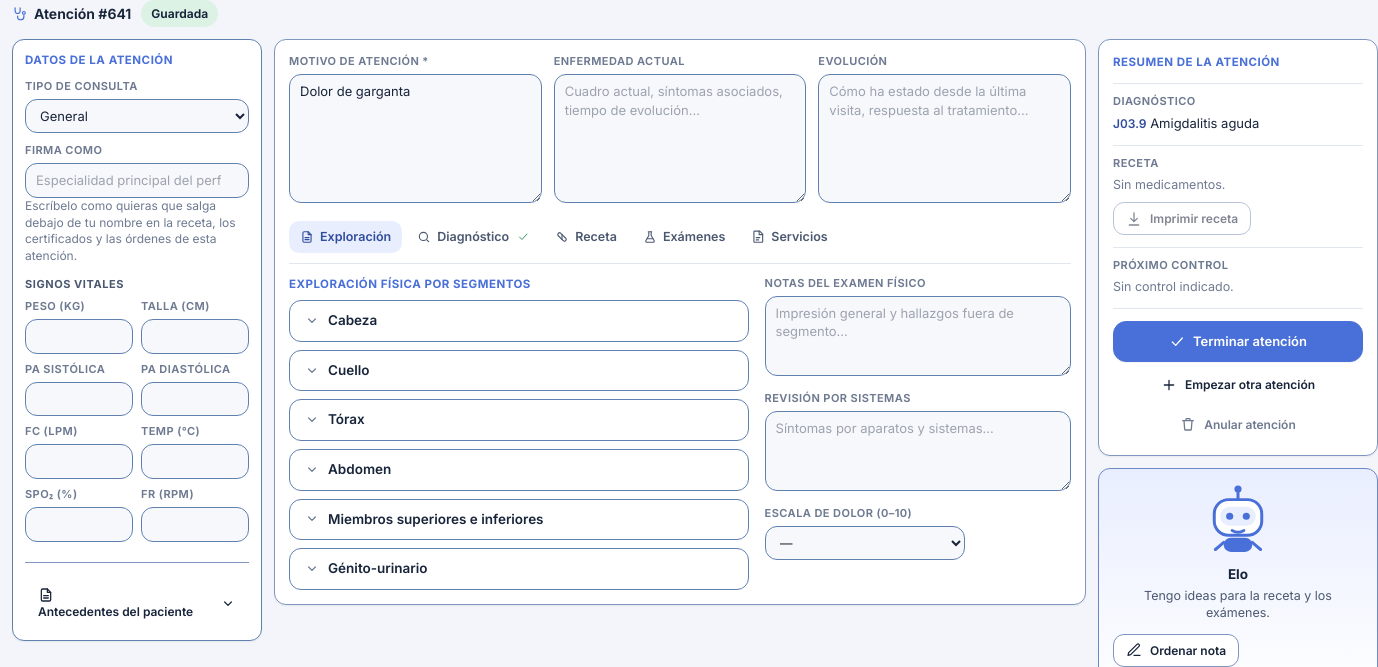
Test: EncounterSection — Elo › suggests CIE-10 in the diagnosis search only when asked, and a chip adds it
Expected: the text "Atención #641" is shown, [12,4,131,24]
Click the tab "Diagnóstico".
click(473, 237)  # box [406,221,540,253]
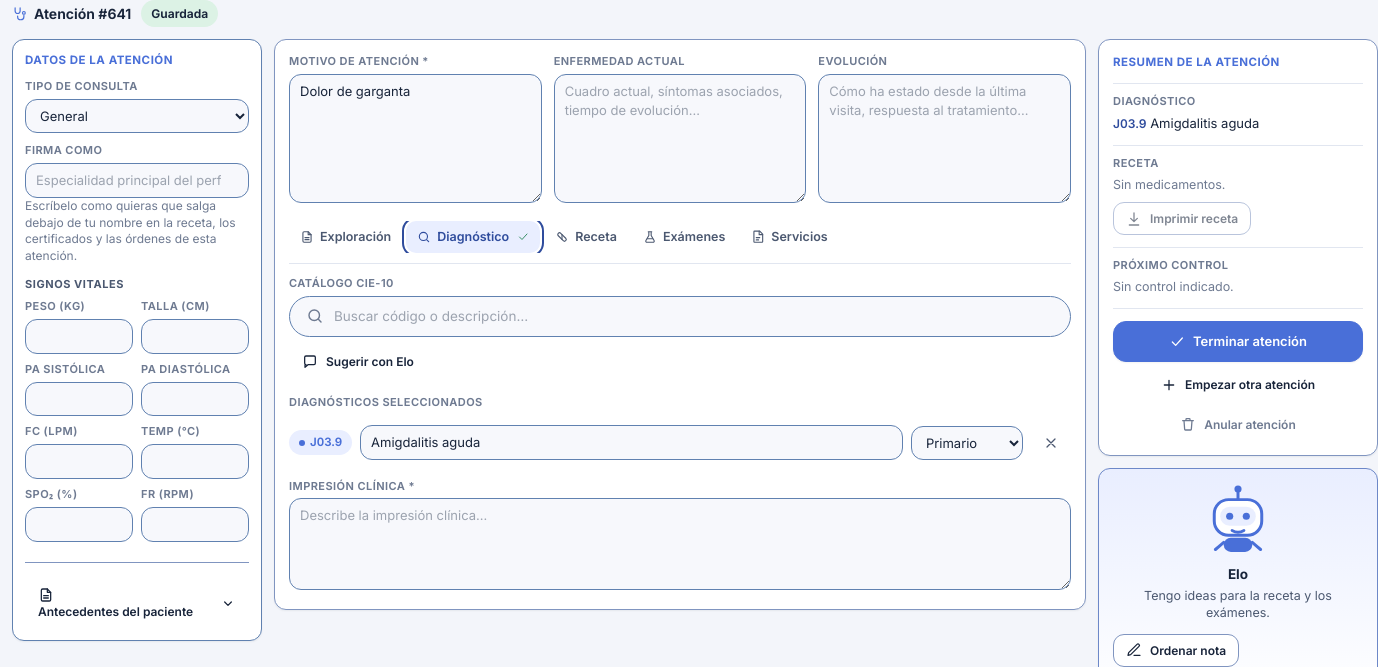
Click the button "Sugerir con Elo".
click(358, 362)  # box [289,345,427,379]
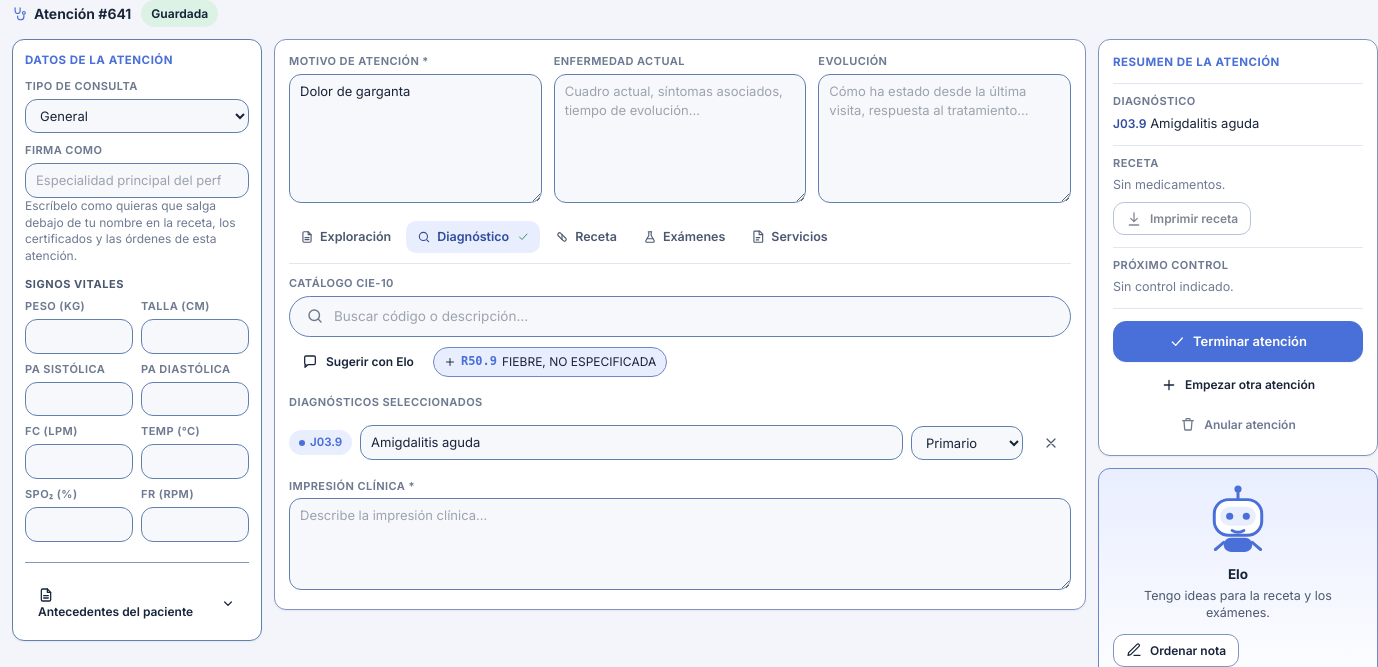
Click the button "R50.9 FIEBRE, NO ESPECIFICADA".
click(550, 362)  # box [433,347,667,377]
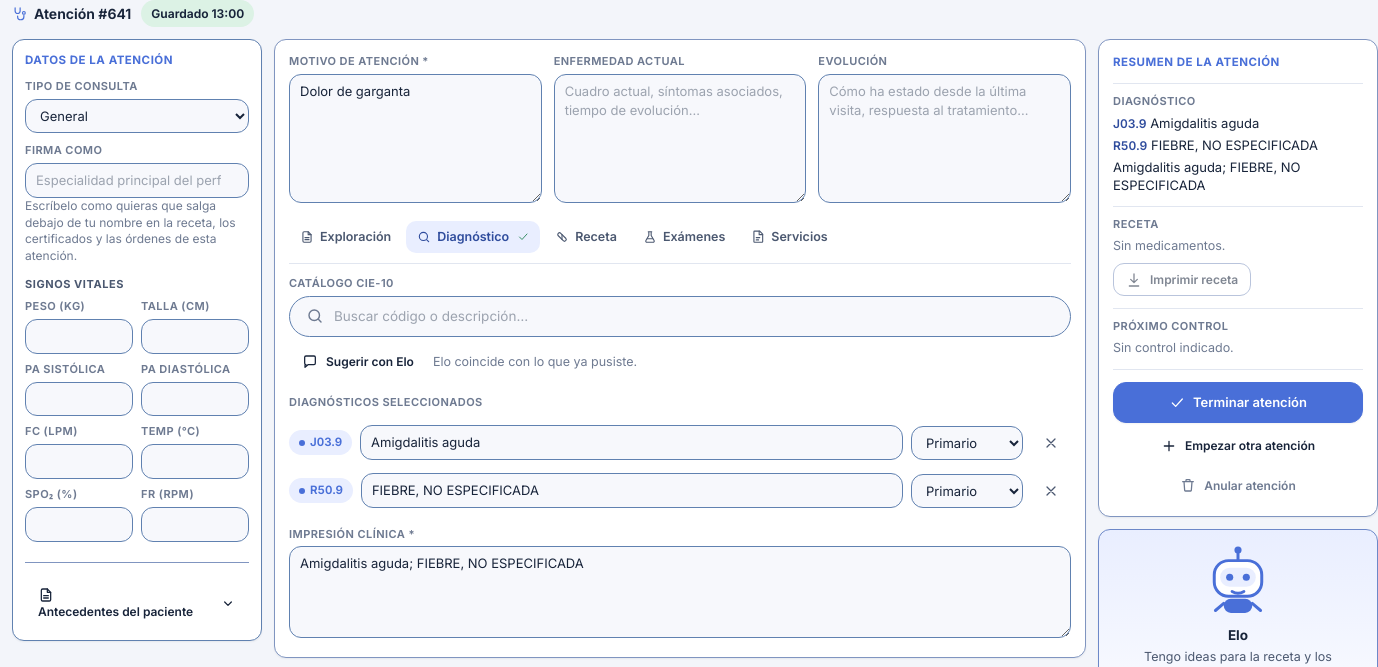
Now the text box "FIEBRE, NO ESPECIFICADA" is shown, box [289,546,1071,638]
